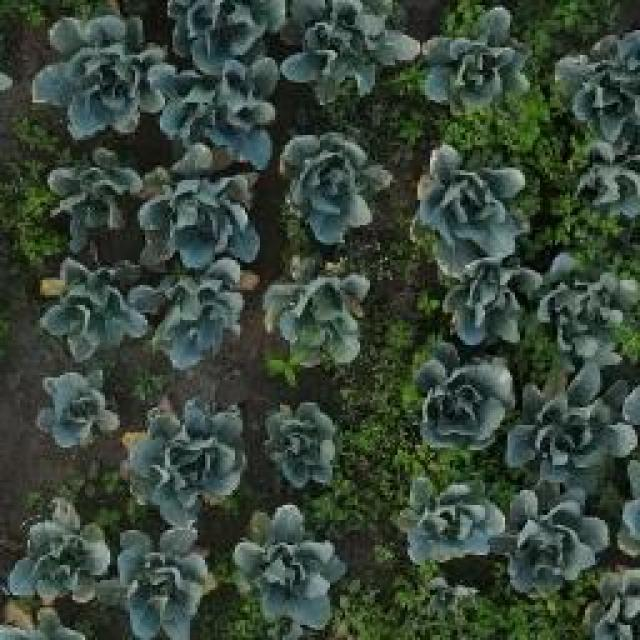cabbage: (408, 145, 518, 263), (45, 19, 160, 126), (234, 517, 338, 623), (286, 138, 388, 242), (517, 380, 622, 479), (156, 262, 260, 361), (492, 492, 594, 592), (116, 529, 215, 630), (300, 0, 410, 88), (148, 171, 253, 262), (47, 258, 143, 356), (412, 364, 514, 456), (144, 411, 242, 505), (399, 482, 497, 573), (172, 74, 274, 161), (431, 14, 530, 103), (17, 504, 105, 602), (272, 268, 363, 362), (437, 267, 532, 348), (549, 260, 634, 349), (55, 160, 138, 241), (40, 371, 120, 453), (260, 408, 341, 488)
